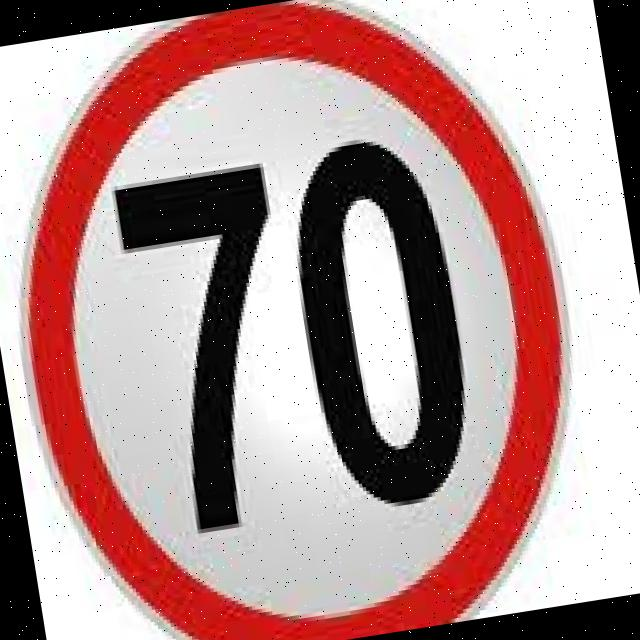speed_limit_70: (0, 0, 613, 640)
